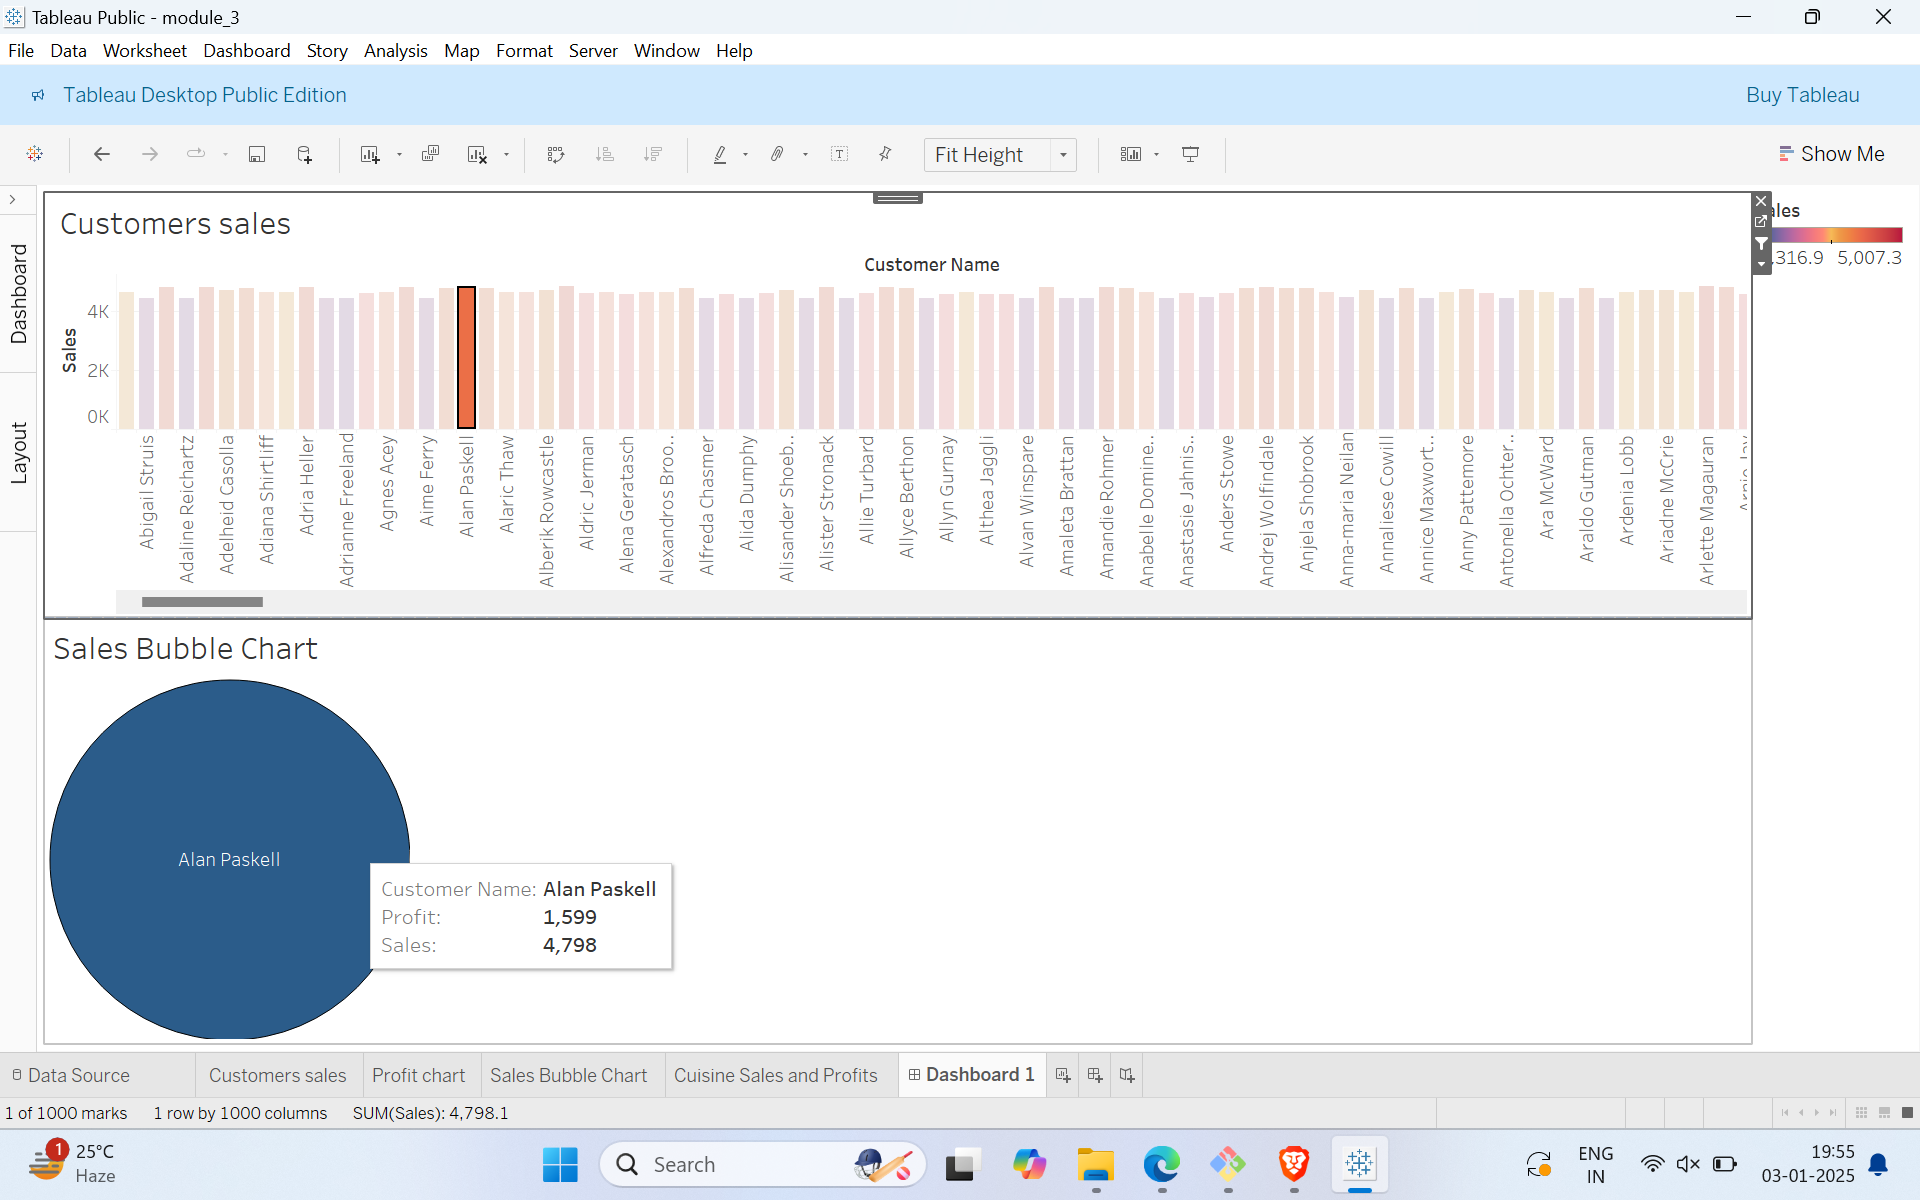

What the dashboard file says about the page in this screenshot:
{"tool":"tableau","page":{"name":"Dashboard 1","canvas":[1000,1000],"units":"permille","ordinal":0},"visuals":[{"type":"worksheet","title":" Customers sales","mark":"Automatic","rows":["Sales"],"cols":["Customer Name"],"box":[5,9.2,890.3,490.8]},{"type":"legend","title":" Customers sales","param":"[federated.1smvpsd0pro9mv16dr17e0f0emef].[sum:Sales:qk]","box":[895.3,9.2,99.8,93.5]},{"type":"worksheet","title":"Sales Bubble Chart","mark":"Circle","box":[5,500,890.3,490.8]}]}

Visuals, with their boxes on the dashboard's canvas, which has no fixed pixel size, in thousandths of its width and height (x1, y1, x2, y2). These are canvas units, not pixel positions in the 1920x1200 screenshot, which may show the page scaled, cropped or inside an application window:
" Customers sales" worksheet: 5, 9, 895, 500
" Customers sales" legend: 895, 9, 995, 103
"Sales Bubble Chart" worksheet (Circle marks): 5, 500, 895, 991
